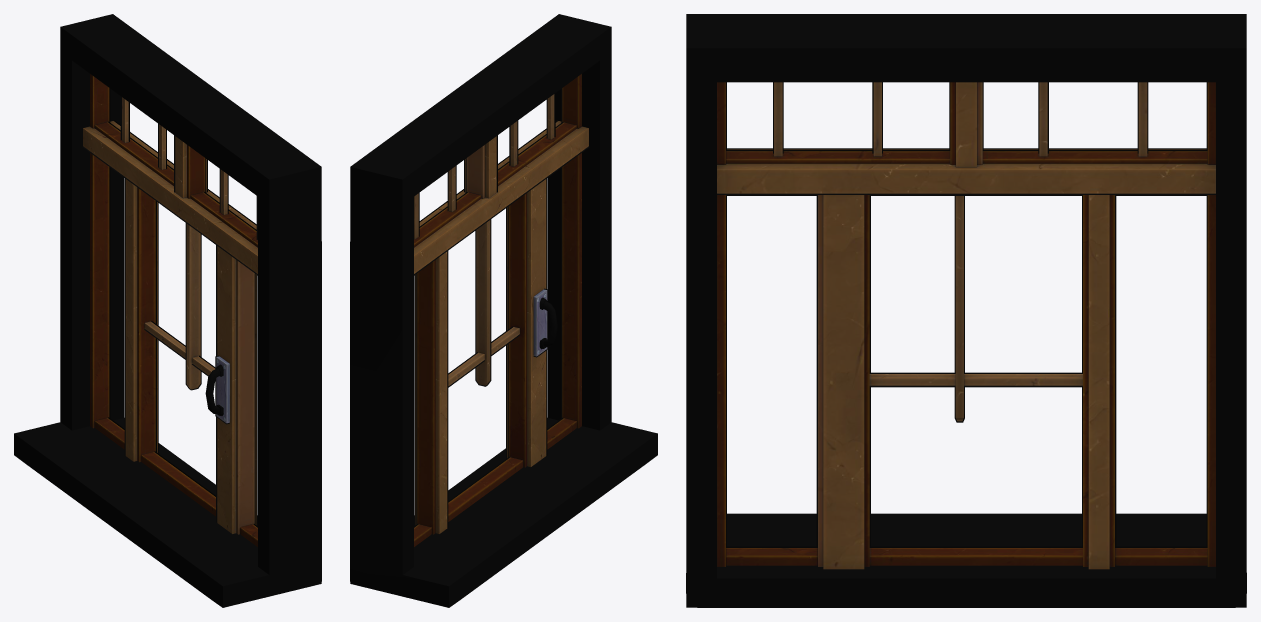
File: Winodws.fbx
3 views of the same model, side by side, from view 1: azimuth 30°, elevation 25°; view 2: azimuth 150°, elevation 25°; view 3: azimuth 270°, elevation 25° (orthographic). The views are drawn at different scales.
Parts seen in each view (by area): view 1: Winodws; view 2: Winodws; view 3: Winodws.
Part boxes in pixels (box(x1,y1,x2,y2)): Winodws: box(14, 14, 321, 607); Winodws: box(350, 14, 657, 607); Winodws: box(686, 14, 1246, 607).
Bounding box in the file's own units: 50.62 × 184 × 203.
